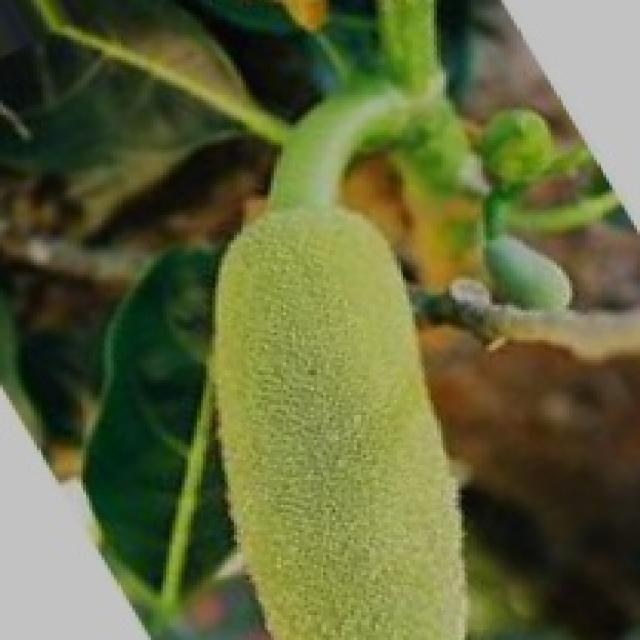Fruit: (154, 190, 520, 632), (114, 0, 409, 65)
